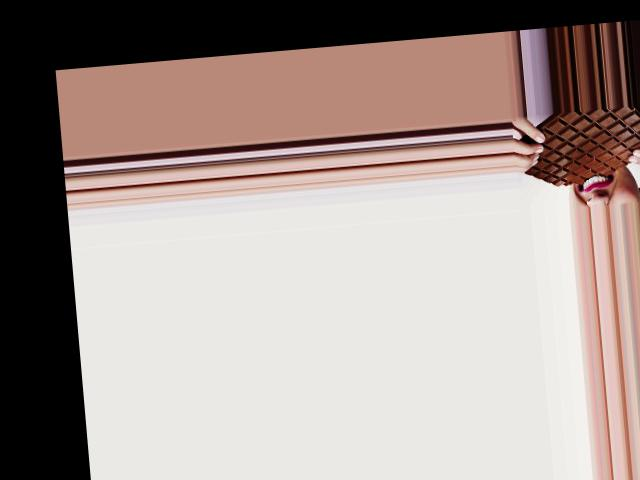chocolate: (510, 105, 640, 193)
